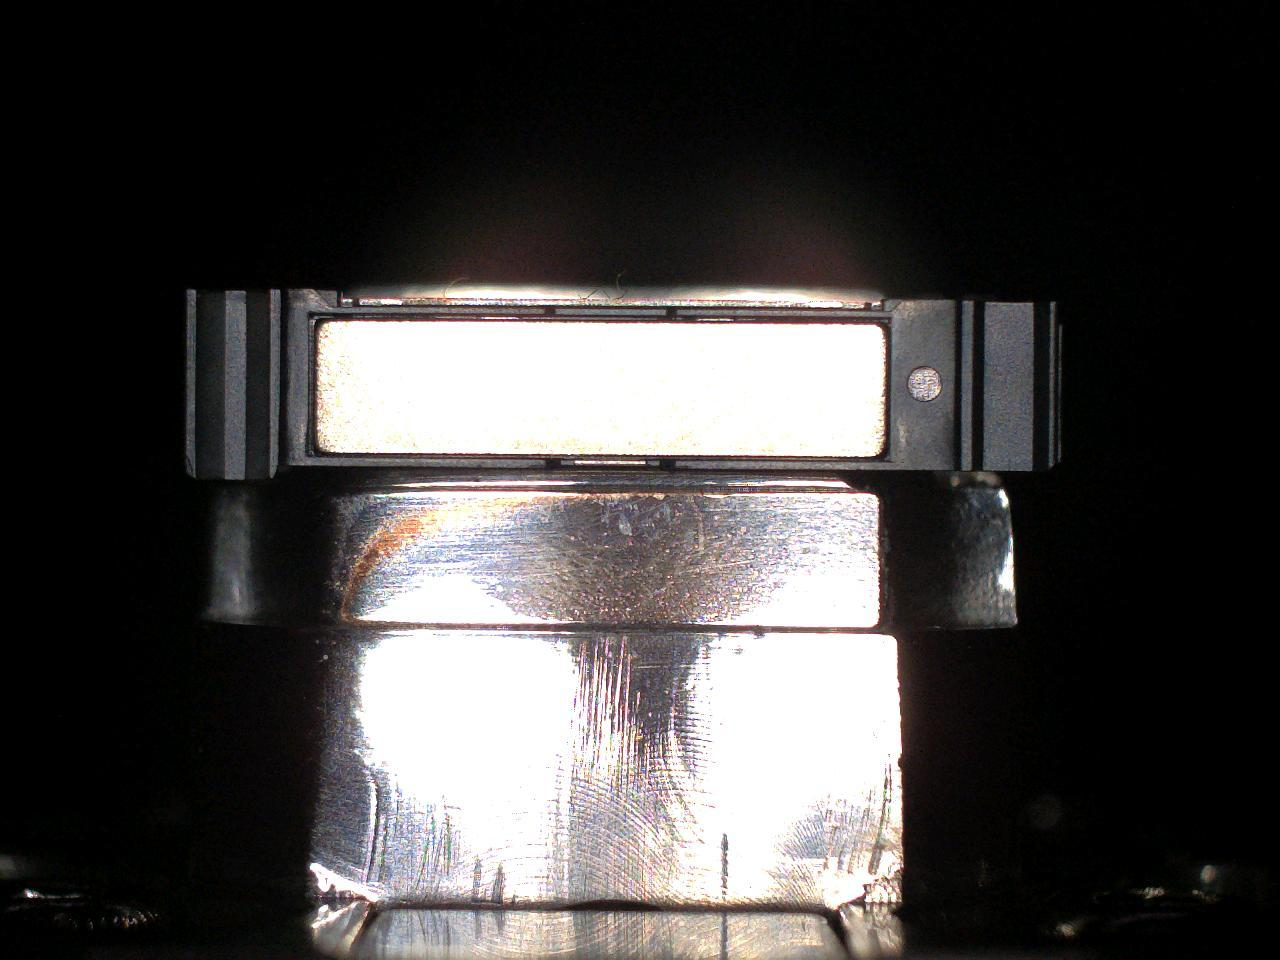frame: (187, 289, 1058, 480), (557, 309, 667, 314)
gap: (309, 312, 544, 322), (677, 315, 891, 323), (676, 455, 893, 462), (307, 453, 546, 459), (558, 316, 668, 322), (561, 454, 661, 459)
magnetic: (317, 321, 885, 457)
